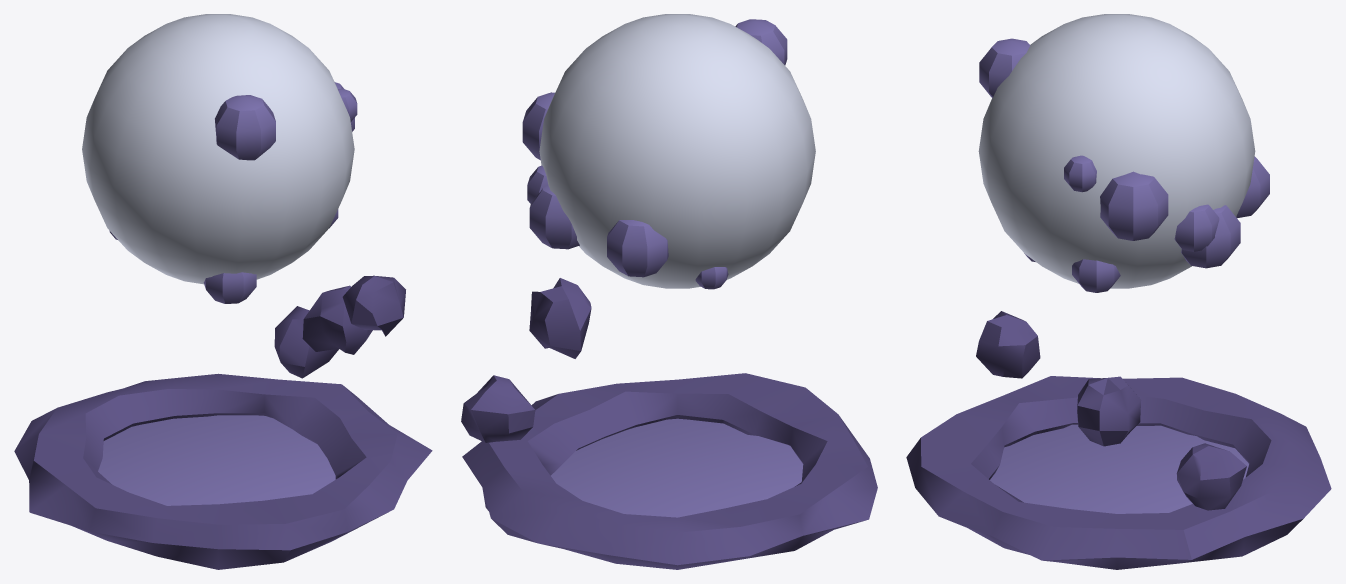
File: LandMoonRock.fbx
The picture shows the model from 3 angles, left to right: view 1: azimuth 30°, elevation 25°; view 2: azimuth 150°, elevation 25°; view 3: azimuth 270°, elevation 25°; orthographic projection.
Visible parts, largest first — view 1: LandMoonRock; view 2: LandMoonRock; view 3: LandMoonRock.
Boxes of the visible parts, x1,y1,x2,y2 form: LandMoonRock: [14, 14, 432, 569]; LandMoonRock: [461, 14, 877, 569]; LandMoonRock: [906, 14, 1331, 569].
Size of the model in its own units: 930 by 1121 by 923.
